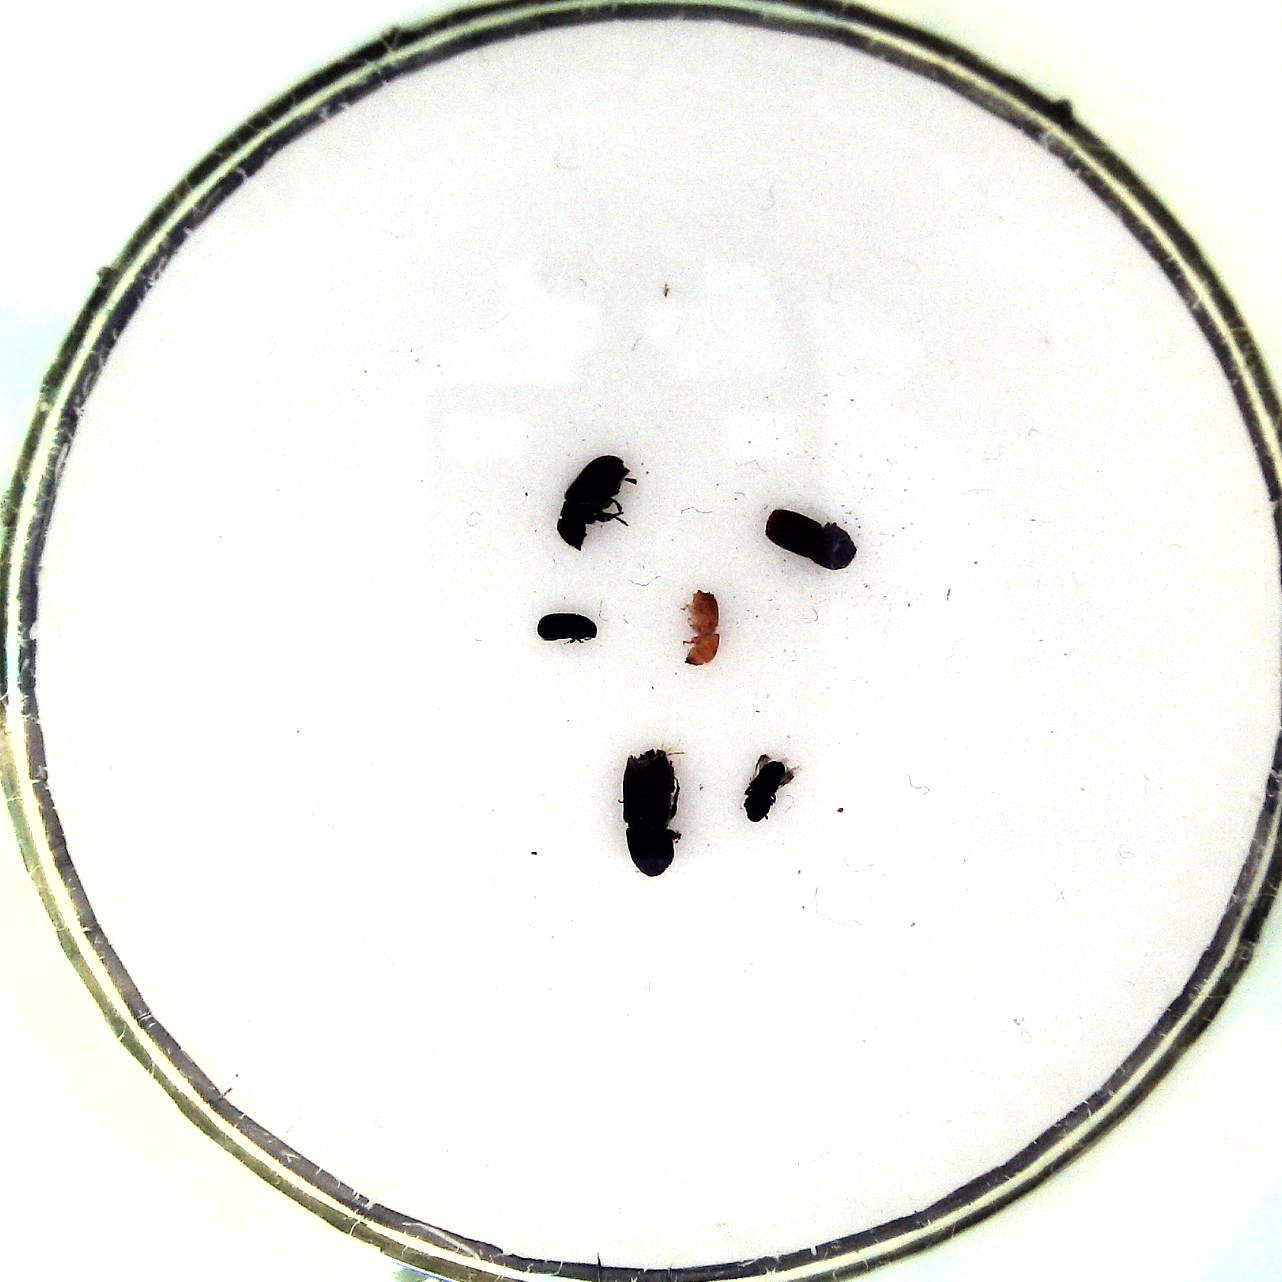Boerner: (618, 744, 688, 880)
Linnaeus: (760, 502, 864, 574)
acuminatus: (675, 581, 731, 674)
armandi: (552, 448, 641, 556)
coleoptera: (737, 745, 805, 823), (533, 605, 603, 649)
